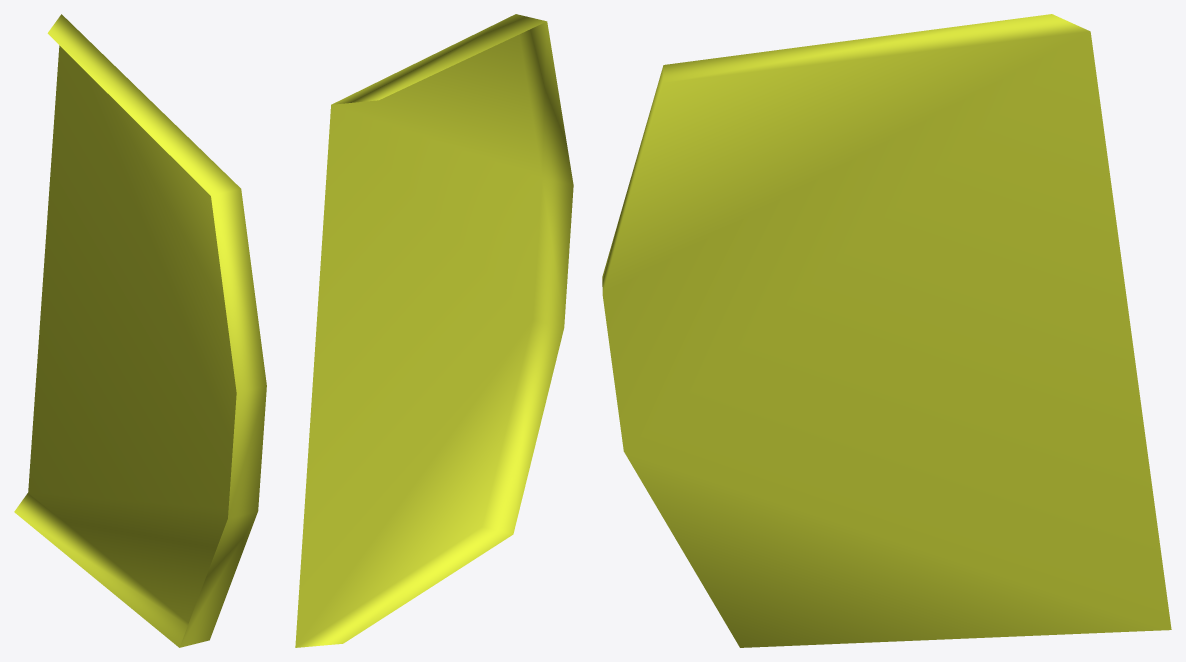
Rendered from b_polySurface703_b_BMW_i8Elite_2_687.glb.
The picture shows the model from 3 angles, left to right: view 1: azimuth 30°, elevation 25°; view 2: azimuth 150°, elevation 25°; view 3: azimuth 270°, elevation 25°; orthographic projection. The views are drawn at different scales.
Visible parts, largest first — view 1: b:polySurface703_b:BMW_i8Elite_2017CalliperGloss_Material1_0; view 2: b:polySurface703_b:BMW_i8Elite_2017CalliperGloss_Material1_0; view 3: b:polySurface703_b:BMW_i8Elite_2017CalliperGloss_Material1_0.
Boxes of the visible parts, x1=… form: b:polySurface703_b:BMW_i8Elite_2017CalliperGloss_Material1_0: x1=14, y1=14, x2=266, y2=647; b:polySurface703_b:BMW_i8Elite_2017CalliperGloss_Material1_0: x1=295, y1=14, x2=573, y2=647; b:polySurface703_b:BMW_i8Elite_2017CalliperGloss_Material1_0: x1=602, y1=14, x2=1171, y2=647.
Bounding box in the file's own units: 0.00562 × 0.0896 × 0.075.
